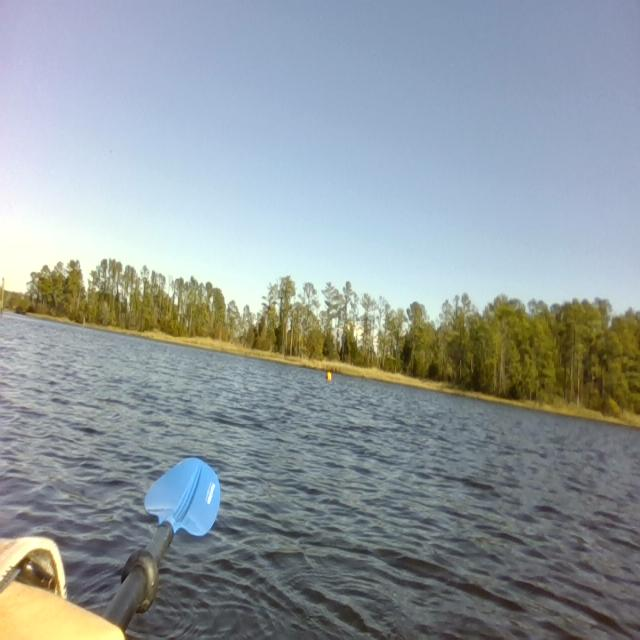Buoy: (322, 368, 335, 392)
